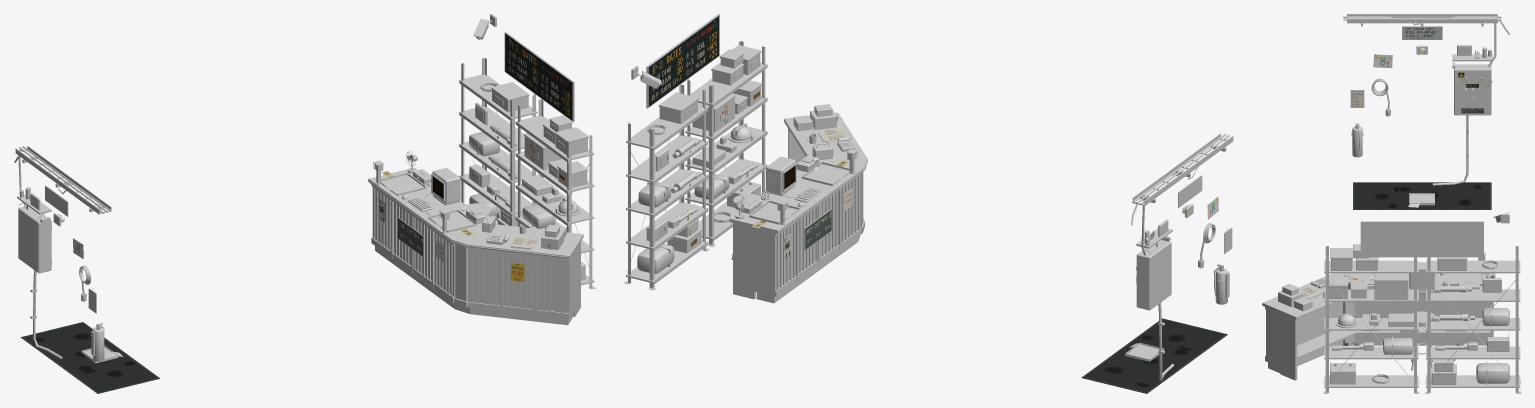
Rendered from ClinicZonesV2.fbx.
The picture shows the model from 3 angles, left to right: view 1: azimuth 30°, elevation 25°; view 2: azimuth 150°, elevation 25°; view 3: azimuth 270°, elevation 25°; orthographic projection. The views are drawn at different scales.
Visible parts, largest first — view 1: ZC_Counter, ZC_Racking, ZC_ShelfGoods, ZC_Prints, ZD_FloorMat, ZC_CounterTop, ZD_Cabinet, ZD_CableTray, ZC_Corner, ZC_Terminal, ZC_Tray_Out, ZC_Tray_In (+1 smaller); view 2: ZC_Racking, ZC_ShelfGoods, ZC_Counter, ZD_FloorMat, ZC_Prints, ZC_CounterTop, ZD_Cabinet, ZD_CableTray, ZC_Corner, ZC_Terminal, ZC_Tray_In, ZC_Tray_Out (+2 smaller); view 3: ZC_Racking, ZC_ShelfGoods, ZC_Counter, ZC_TariffBoard, ZD_FloorMat, ZD_Cabinet, ZD_CableTray, ZC_CounterTop, ZD_Prints, ZC_Corner, ZD_Spares, ZC_Terminal (+6 smaller).
Part boxes in pixels (x1,y1,x2,y2): ZC_Counter: [371, 184, 580, 325]; ZC_Racking: [459, 58, 595, 289]; ZC_ShelfGoods: [469, 82, 588, 280]; ZC_Prints: [378, 34, 572, 282]; ZD_FloorMat: [20, 322, 159, 393]; ZC_CounterTop: [368, 167, 583, 259]; ZD_Cabinet: [18, 206, 51, 273]; ZD_CableTray: [14, 146, 111, 214]; ZC_Corner: [482, 194, 566, 249]; ZC_Terminal: [431, 167, 460, 205]; ZC_Tray_Out: [381, 173, 426, 195]; ZC_Tray_In: [428, 209, 476, 232]; ZC_Racking: [624, 41, 767, 290]; ZC_ShelfGoods: [637, 45, 762, 273]; ZC_Counter: [733, 128, 864, 303]; ZD_FloorMat: [1081, 318, 1227, 393]; ZC_Prints: [648, 16, 852, 259]; ZC_CounterTop: [729, 112, 867, 233]; ZD_Cabinet: [1136, 236, 1171, 310]; ZD_CableTray: [1131, 133, 1233, 225]; ZC_Corner: [793, 104, 855, 159]; ZC_Terminal: [766, 156, 796, 195]; ZC_Tray_In: [801, 162, 849, 185]; ZC_Tray_Out: [749, 200, 799, 224]; ZC_Racking: [1323, 246, 1520, 393]; ZC_ShelfGoods: [1329, 244, 1509, 385]; ZC_Counter: [1265, 294, 1493, 380]; ZC_TariffBoard: [1360, 221, 1483, 257]; ZD_FloorMat: [1353, 182, 1491, 209]; ZD_Cabinet: [1452, 62, 1491, 115]; ZD_CableTray: [1343, 14, 1509, 34]; ZC_CounterTop: [1262, 273, 1495, 319]; ZD_Prints: [1351, 26, 1478, 107]; ZC_Corner: [1278, 273, 1356, 311]; ZD_Spares: [1452, 45, 1492, 61]; ZC_Terminal: [1409, 262, 1435, 290].
Bounding box in the file's own units: 6.68 × 2.62 × 3.44.
